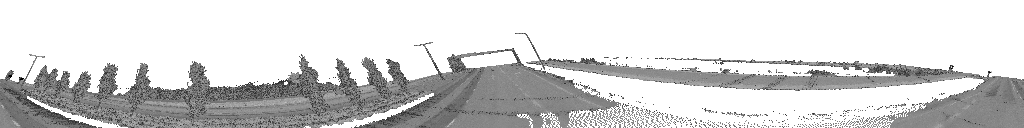light_pole: (414, 42, 444, 79), (515, 33, 542, 61), (21, 54, 44, 83)
